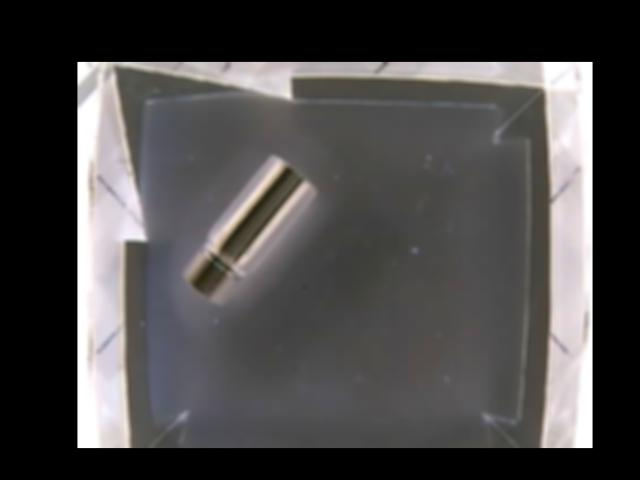Bottle: (182, 154, 316, 307)
